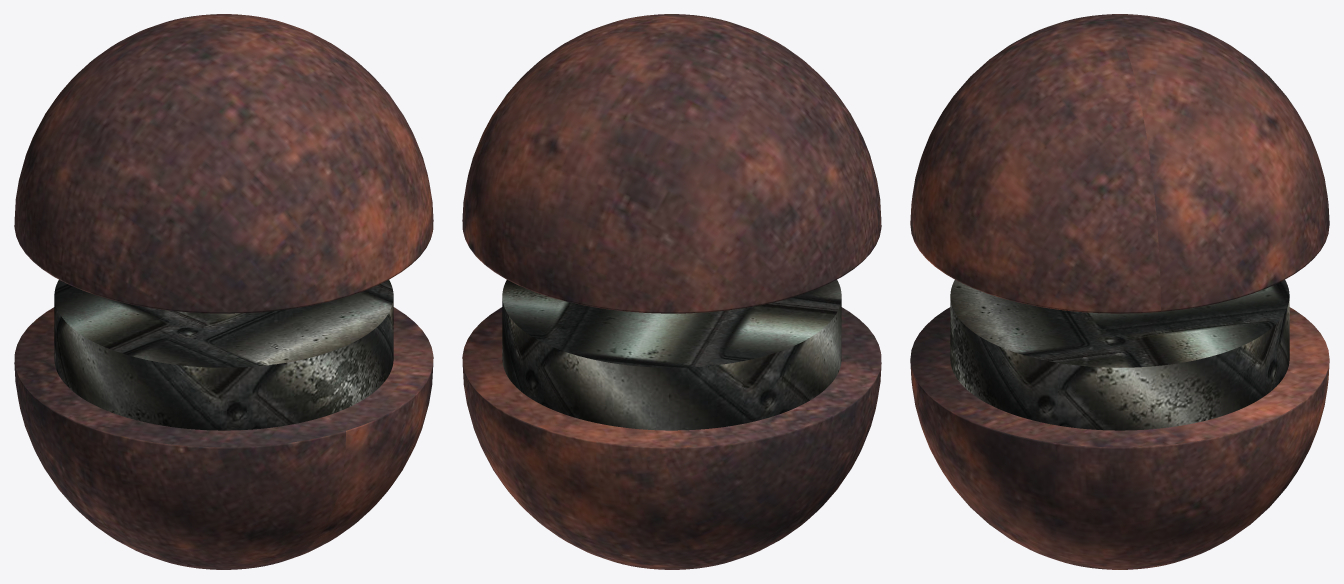
File: droid_anim_000029.obj
3 renders of one model, left to right at view 1: azimuth 30°, elevation 25°; view 2: azimuth 150°, elevation 25°; view 3: azimuth 270°, elevation 25°, orthographic.
Parts seen in each view (by area): view 1: Sphere.004, Sphere.005, Cylinder.002; view 2: Sphere.004, Sphere.005, Cylinder.002; view 3: Sphere.004, Sphere.005, Cylinder.002.
Boxes of the visible parts, bbox=[...] form: Sphere.004: bbox=[14, 14, 433, 313]; Sphere.005: bbox=[14, 307, 433, 569]; Cylinder.002: bbox=[54, 279, 393, 430]; Sphere.004: bbox=[462, 14, 881, 313]; Sphere.005: bbox=[462, 307, 881, 569]; Cylinder.002: bbox=[502, 279, 841, 430]; Sphere.004: bbox=[910, 14, 1329, 313]; Sphere.005: bbox=[910, 307, 1329, 569]; Cylinder.002: bbox=[950, 280, 1289, 430].
Size of the model in its own units: 2 by 2.72 by 2.
3 materials, 3 textured.
